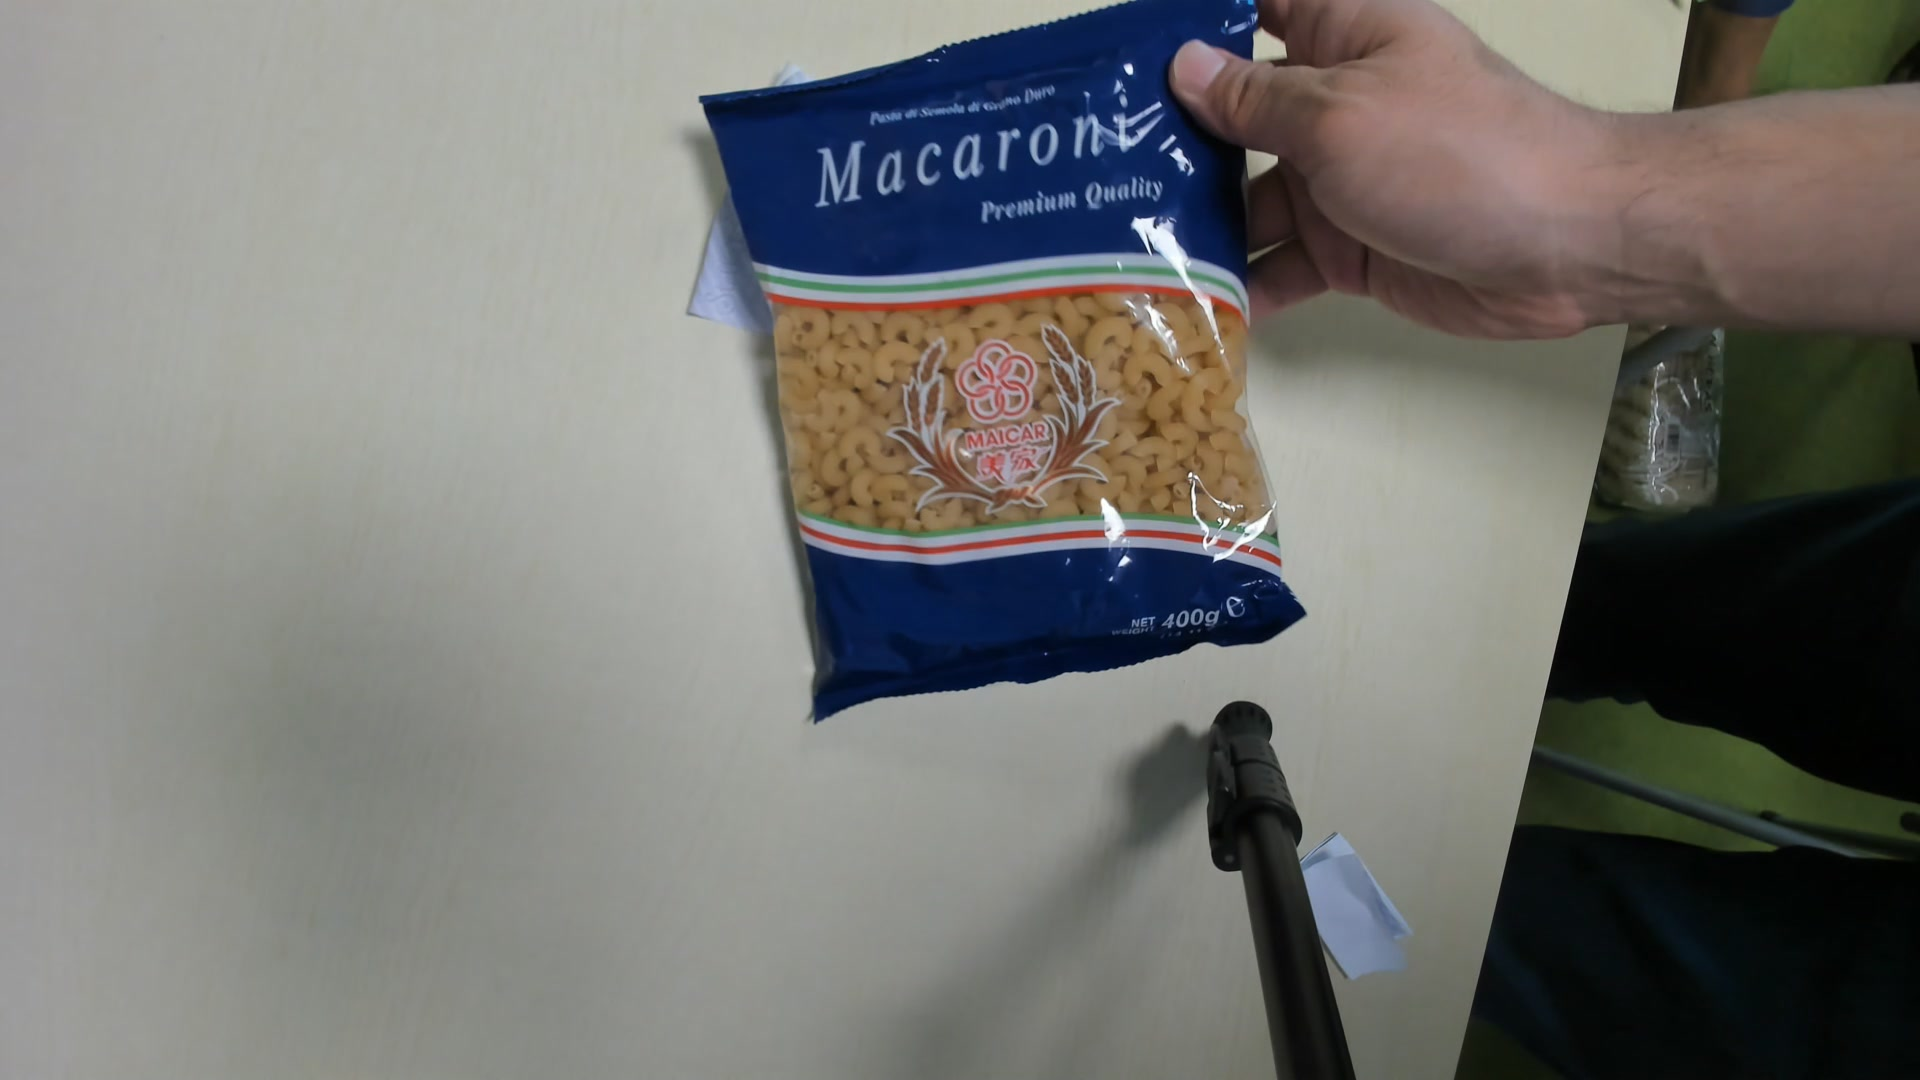Pasta_400-499g_Halal_NonHealthy: (702, 3, 1290, 731)
